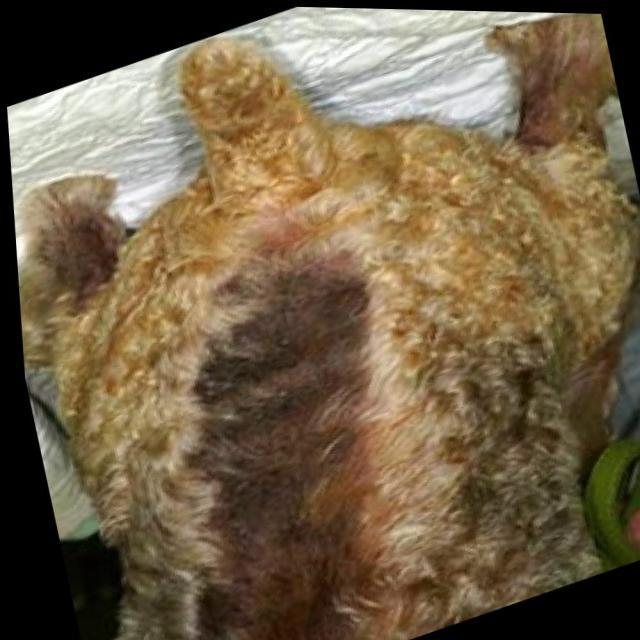allergic dermatitis: (190, 212, 382, 640)
